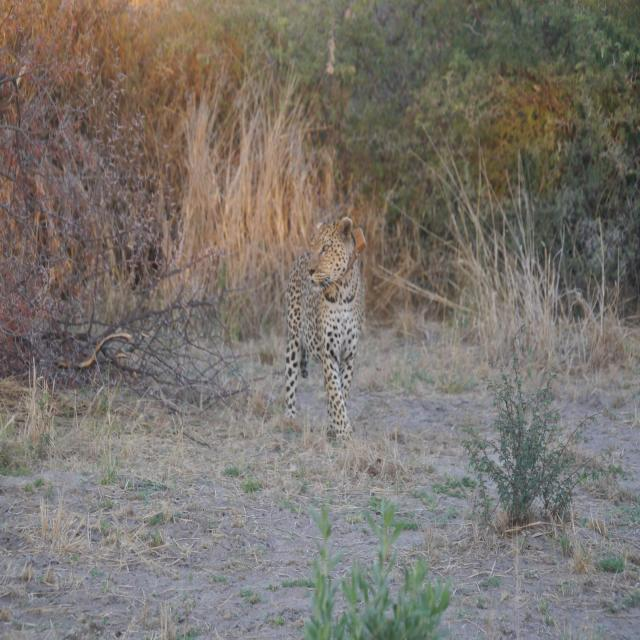Leopard: (277, 226, 371, 454)
